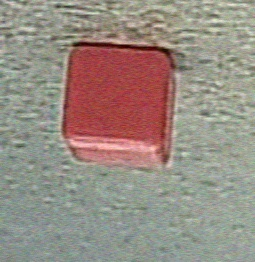red_cube: (56, 43, 200, 180)
